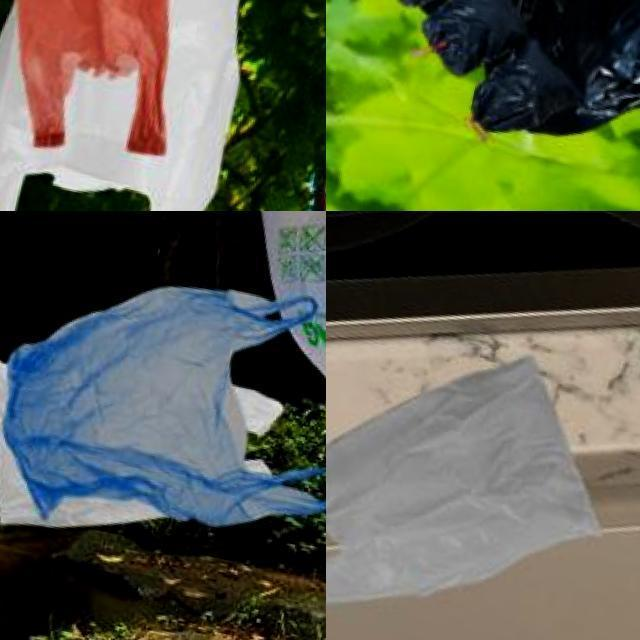waste: (0, 247, 326, 564), (326, 320, 617, 640), (0, 0, 262, 211), (326, 0, 640, 143), (0, 0, 234, 166), (208, 211, 326, 389), (474, 30, 592, 140), (423, 0, 535, 87)
